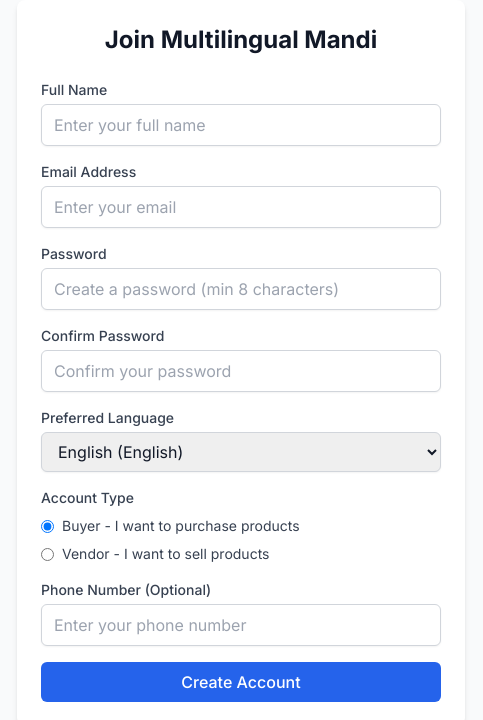
Scenario: RegisterForm Component › should show validation error when passwords do not match
Type "password123" into the password field labelled "Password" at [241, 289], box [41,268,441,310]
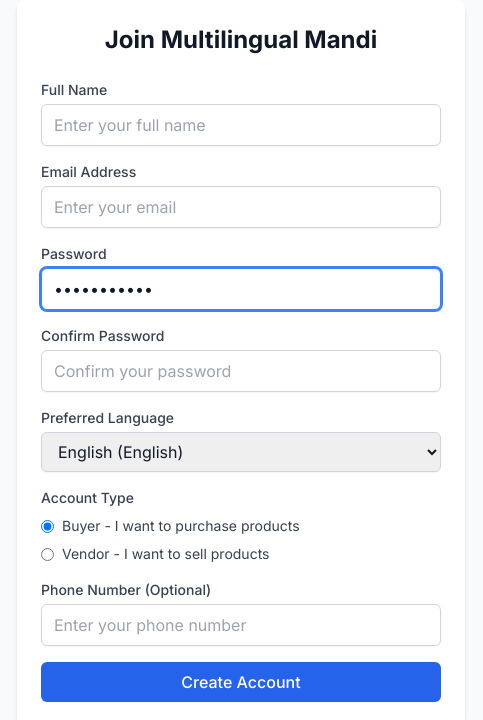
Type "differentpassword" into the password field labelled "Confirm Password" at [241, 371], box [41,350,441,392]
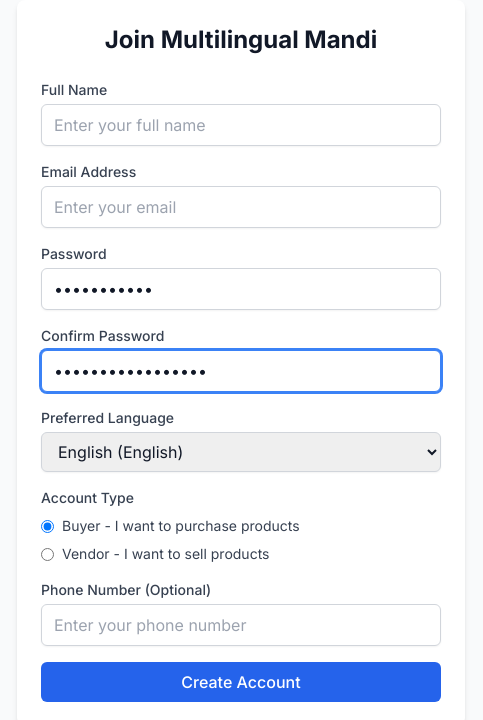
Click the button "Create Account" at [241, 682], box [41,662,441,702]
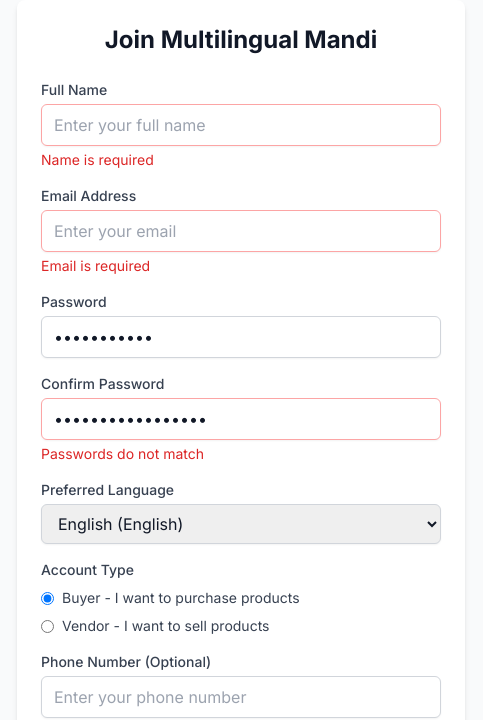
Now the text "Passwords do not match" is shown, box [41,445,204,462]
